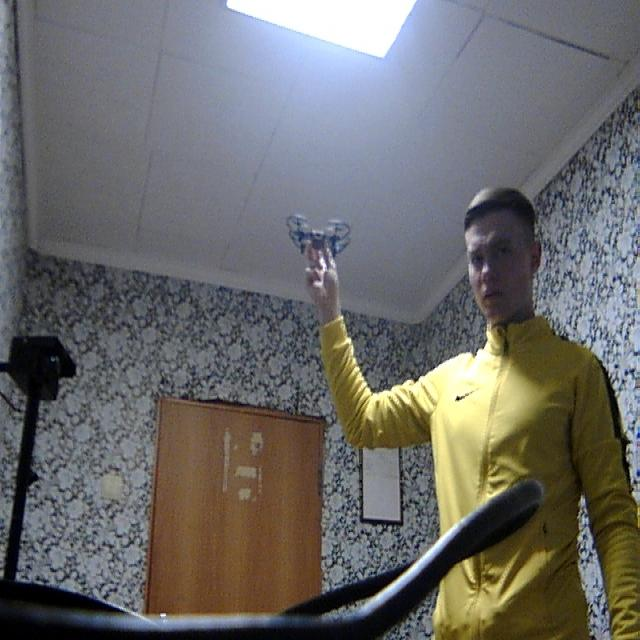drone: (276, 197, 358, 271)
